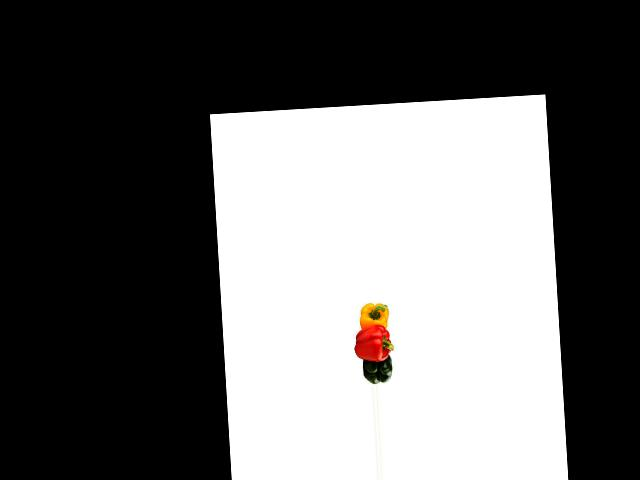bell_pepper: (352, 300, 393, 332)
